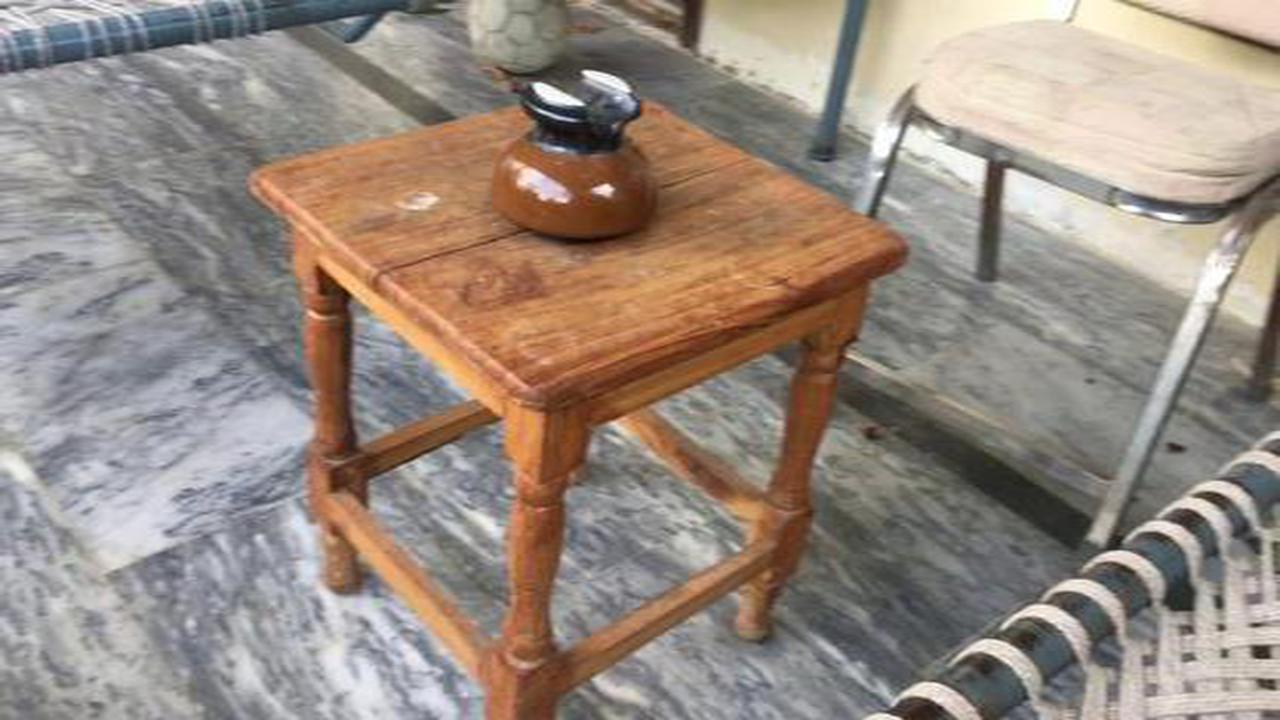insulator_pin: (474, 59, 674, 257)
